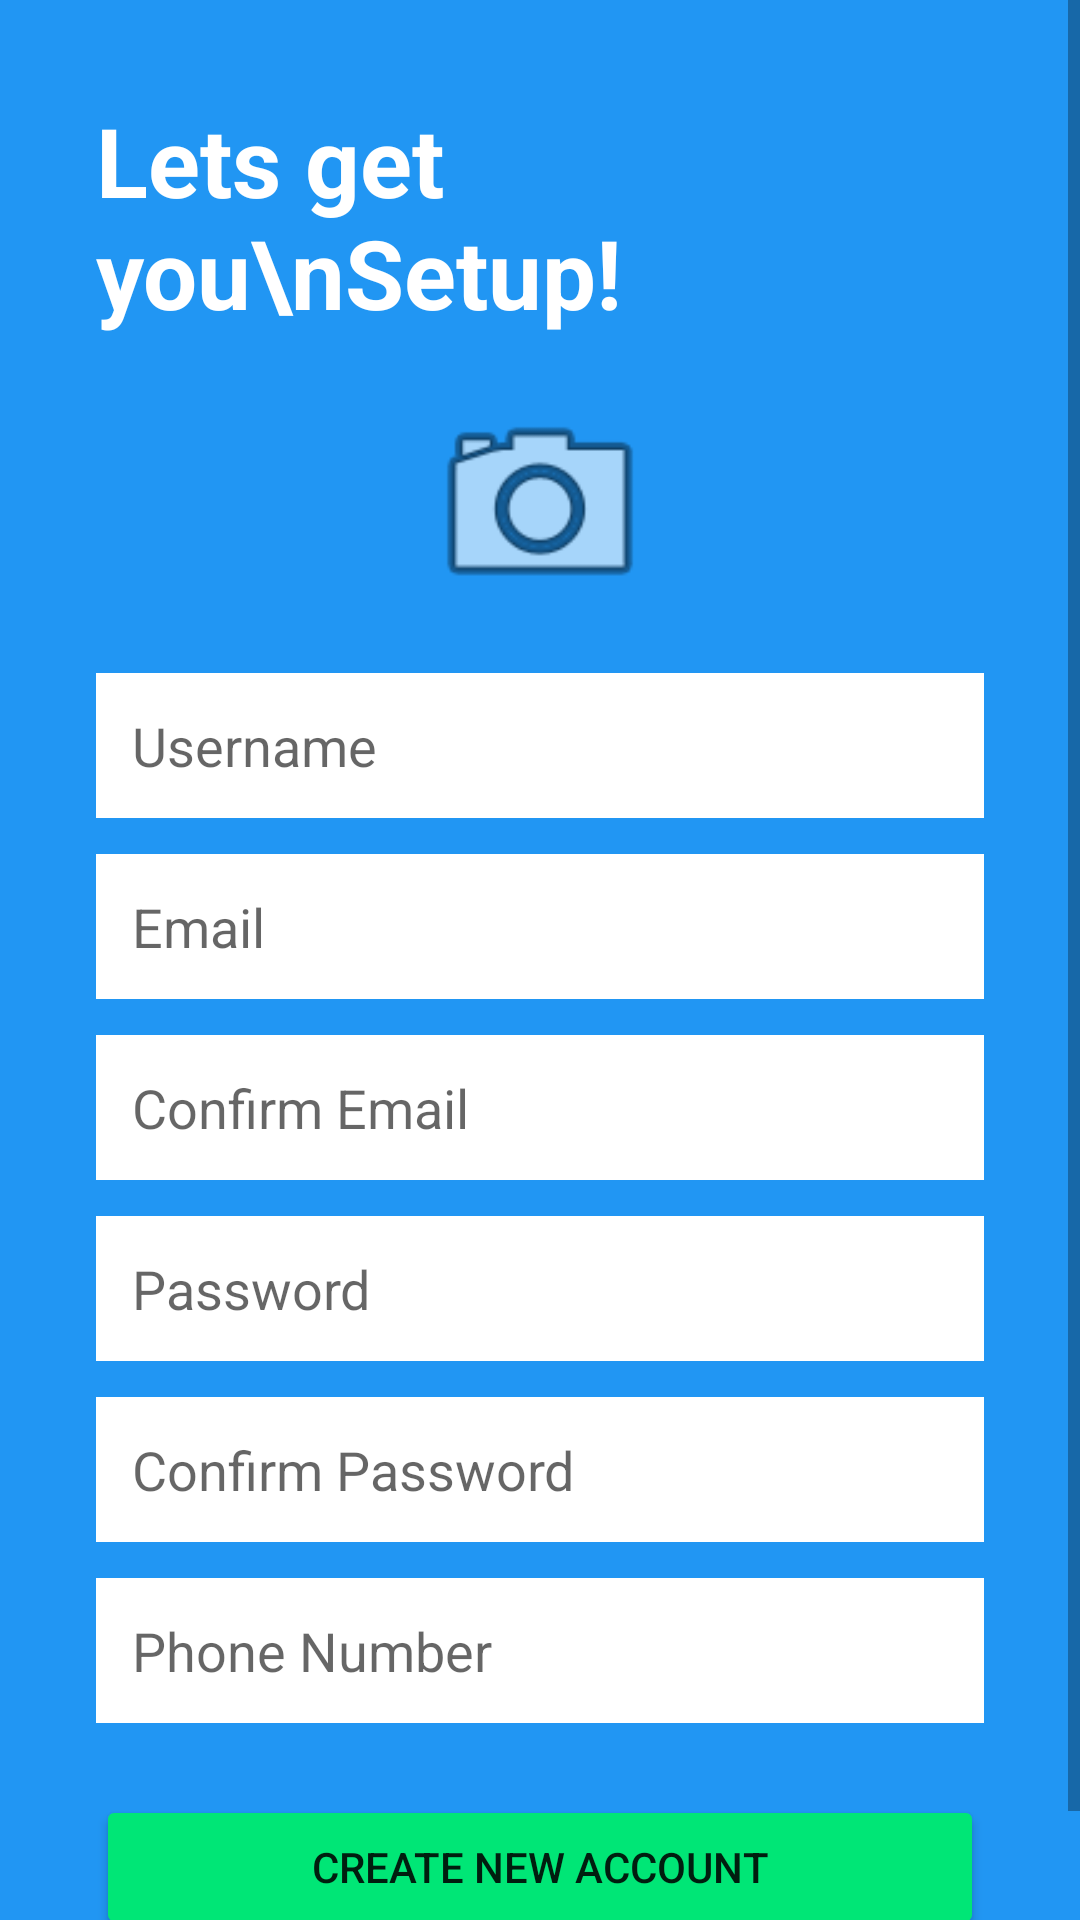

Screen size 1080px×1920px. Icon name, then its box in pixels as detection(x1, y1, x2, y2):
camera: detection(447, 427, 633, 575)
